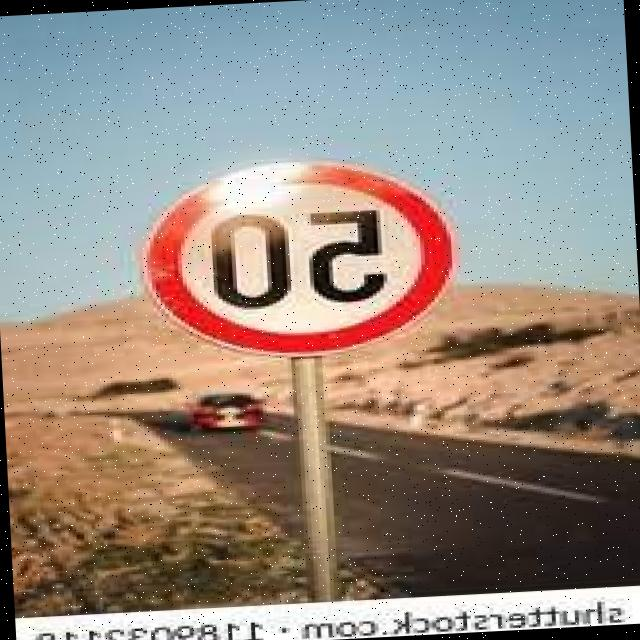speed_limit_50: (123, 140, 465, 370)
